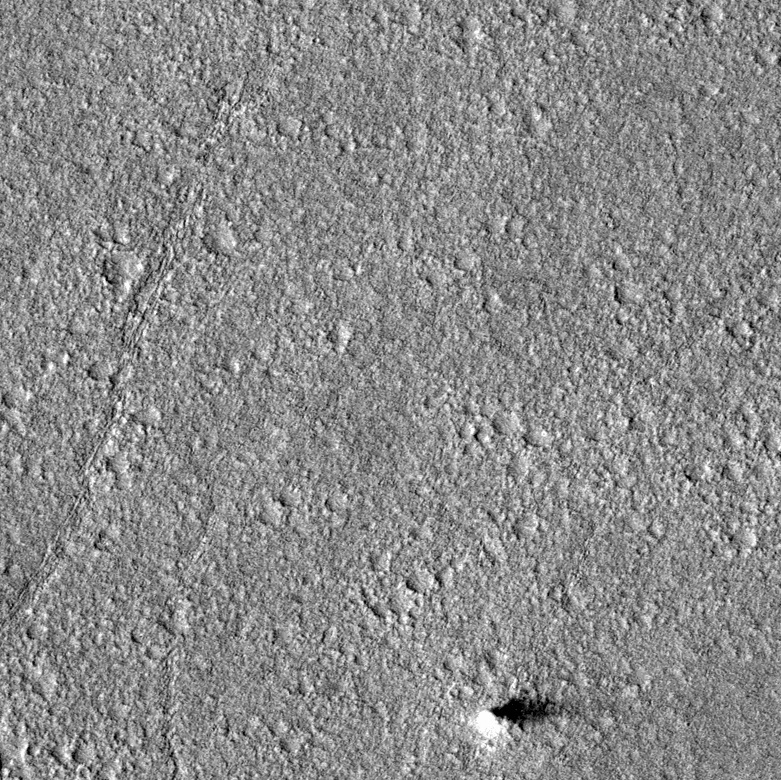dust_devil: (471, 690, 579, 740)
